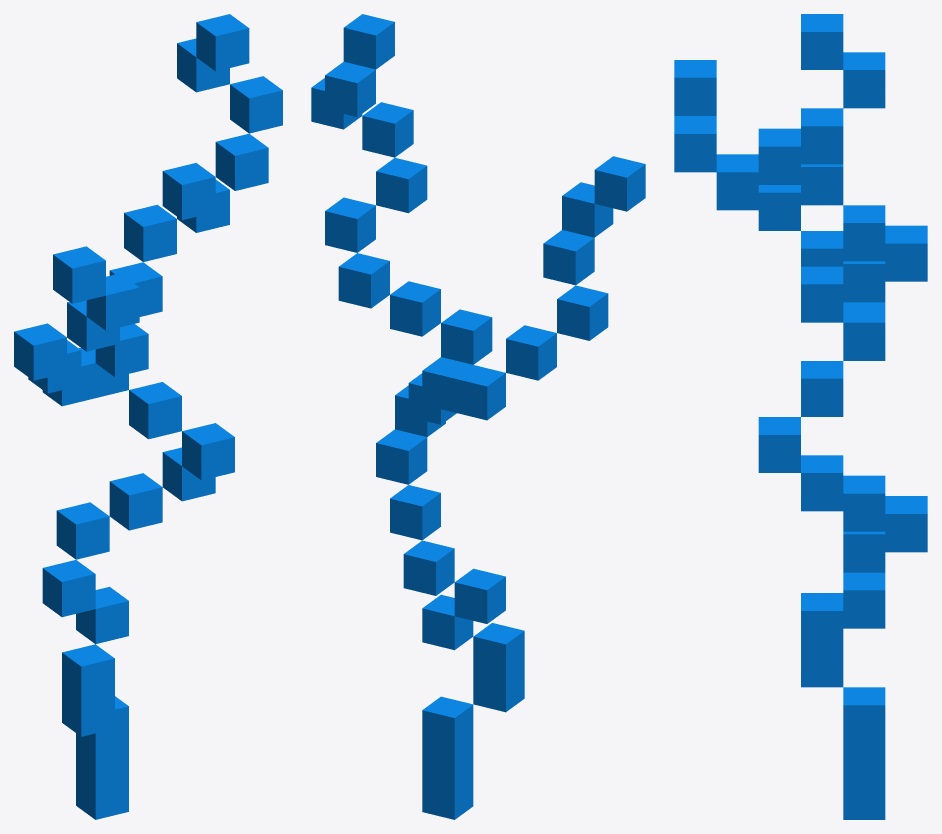
Rendered from VoxelEffects_Electro_01.FBX.
3 views of the same model, side by side, from view 1: azimuth 30°, elevation 25°; view 2: azimuth 150°, elevation 25°; view 3: azimuth 270°, elevation 25° (orthographic). The views are drawn at different scales.
Parts seen in each view (by area): view 1: VoxelEffects_Electro_01; view 2: VoxelEffects_Electro_01; view 3: VoxelEffects_Electro_01.
Part boxes in pixels (x1=…): VoxelEffects_Electro_01: x1=14, y1=14, x2=282, y2=819; VoxelEffects_Electro_01: x1=311, y1=14, x2=645, y2=819; VoxelEffects_Electro_01: x1=674, y1=14, x2=927, y2=819.
Size of the model in its own units: 80 by 220 by 60.
